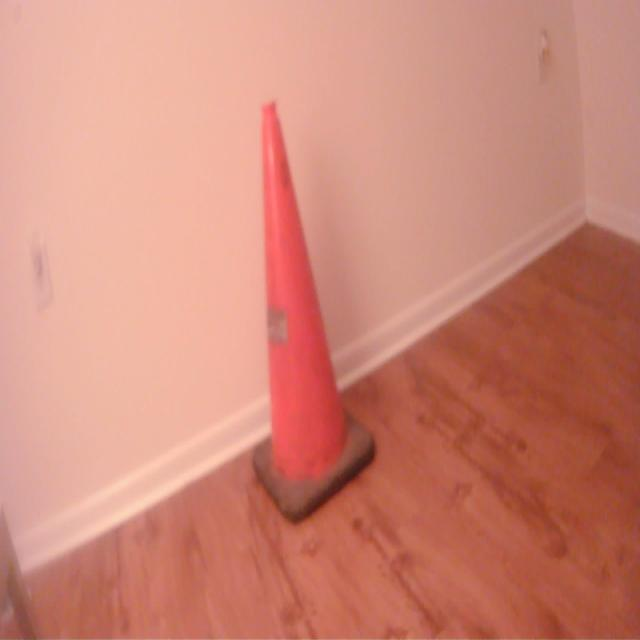traffic cone: (248, 93, 379, 534)
